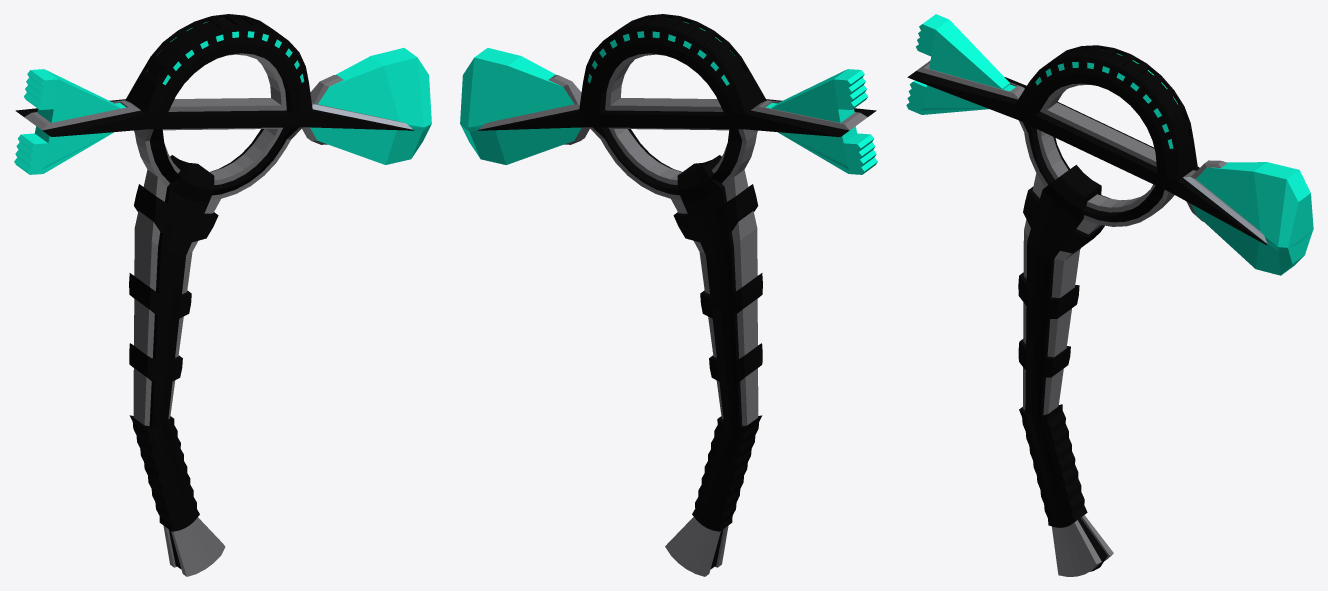
The model's file is hammer 3 Fagerone.fbx.
3 views of the same model, side by side, from view 1: azimuth 30°, elevation 25°; view 2: azimuth 150°, elevation 25°; view 3: azimuth 330°, elevation 25° (orthographic). The views are drawn at different scales.
Visible parts, largest first — view 1: Cylinder.001; view 2: Cylinder.001; view 3: Cylinder.001.
Boxes of the visible parts, x1,y1,x2,y2 form: Cylinder.001: [14, 14, 431, 576]; Cylinder.001: [460, 14, 877, 576]; Cylinder.001: [906, 14, 1313, 576].
Size of the model in its own units: 3.44 by 4.42 by 0.5395.
Materials: 2 (2 with a texture image).
